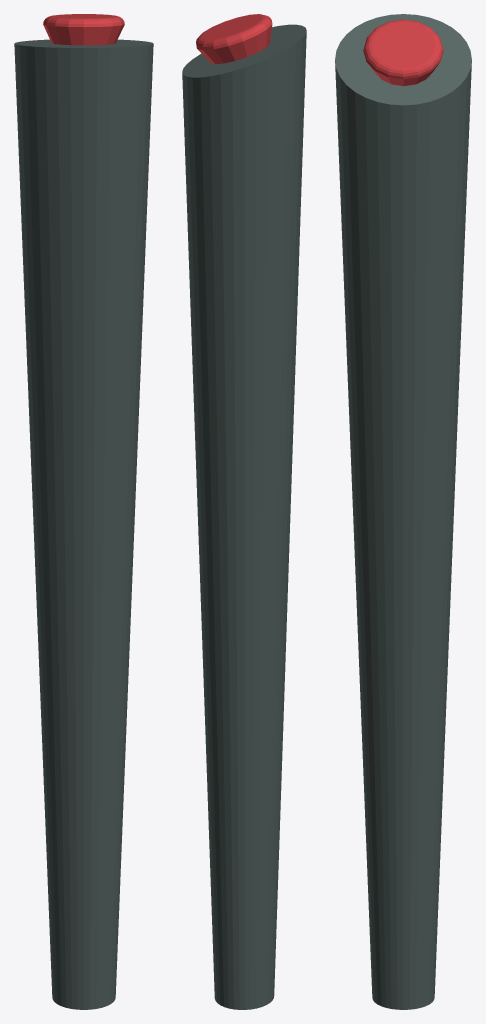
Rendered from button.glb.
3 renders of one model, left to right at view 1: azimuth 90°, elevation 25°; view 2: azimuth 150°, elevation 25°; view 3: azimuth 270°, elevation 25°, orthographic.
Visible parts, largest first — view 1: pedestal, button; view 2: pedestal, button; view 3: pedestal, button.
Part boxes in pixels (left/top/right/bottom): pedestal: left=14, top=39, right=153, bottom=1009; button: left=43, top=14, right=124, bottom=45; pedestal: left=182, top=24, right=306, bottom=1009; button: left=196, top=14, right=272, bottom=64; pedestal: left=335, top=14, right=471, bottom=1009; button: left=363, top=19, right=443, bottom=86.
Bounding box in the file's own units: 0.1476 × 1.33 × 0.1702.
